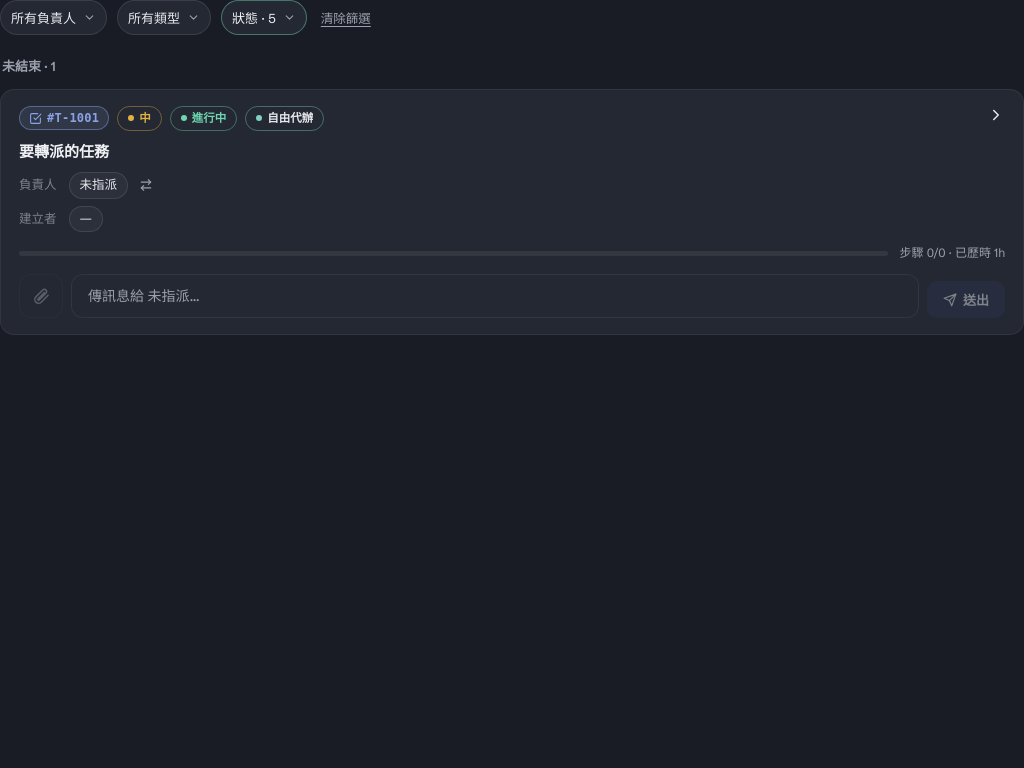
Test: TaskCard 轉派 entry + dialog › opens the reassign dialog from the 負責人 row icon with both target faces
The image size is (1024, 768).
Click the button with test id "task-reassign" at (146, 185), box [134,173,158,197]
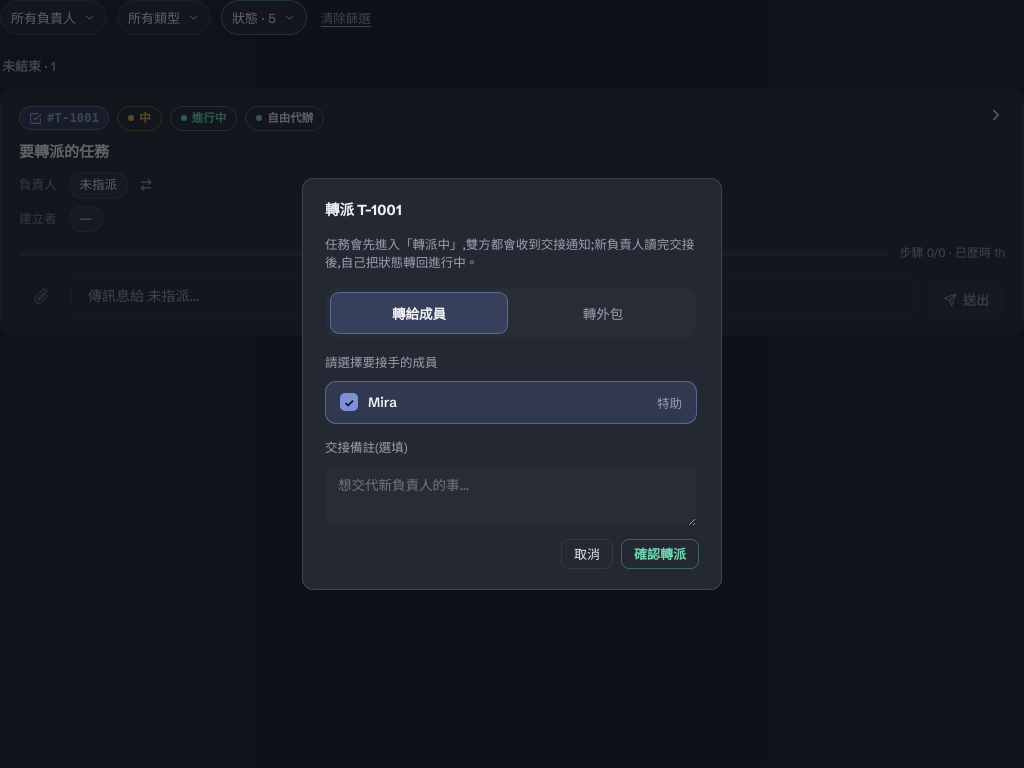
Result: the radio button with test id "reassign-member-mira" is shown at [325,381,697,424]
Click the radio button with test id "reassign-kind-outsource" at (603, 313), box [514,292,692,334]
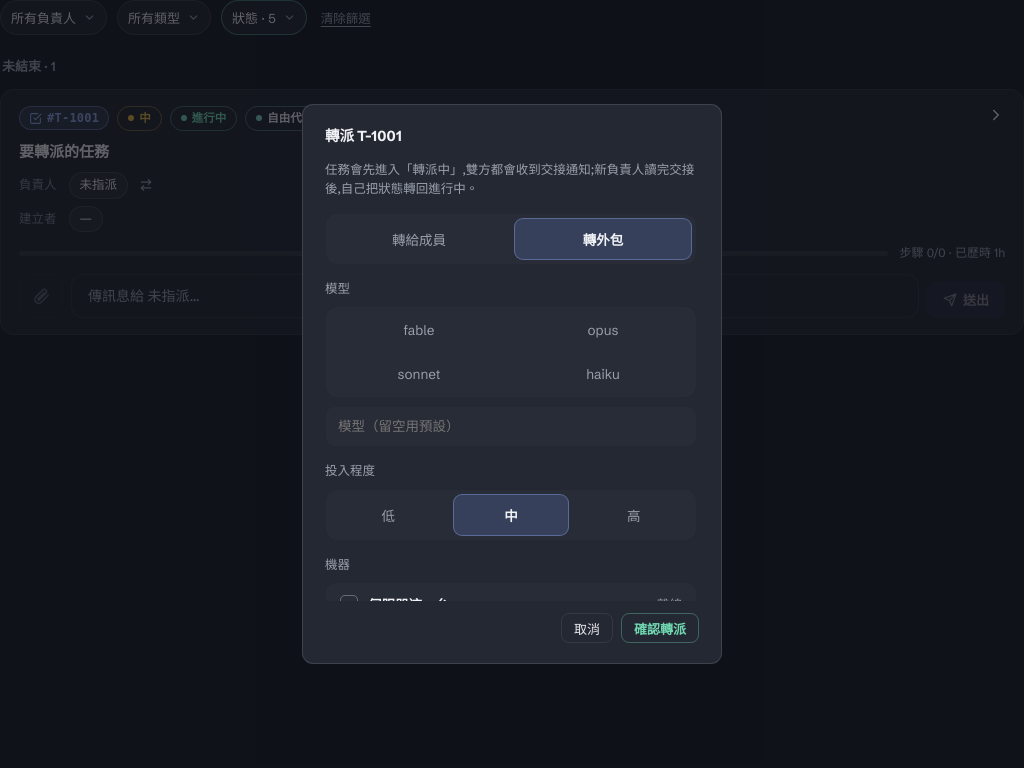
Result: the radio button with test id "reassign-model-opus" is shown at [514,311,692,349]
Result: the radio button with test id "reassign-effort-high" is shown at [575,494,692,536]
Result: the text "機器" is shown at [325,557,350,572]
